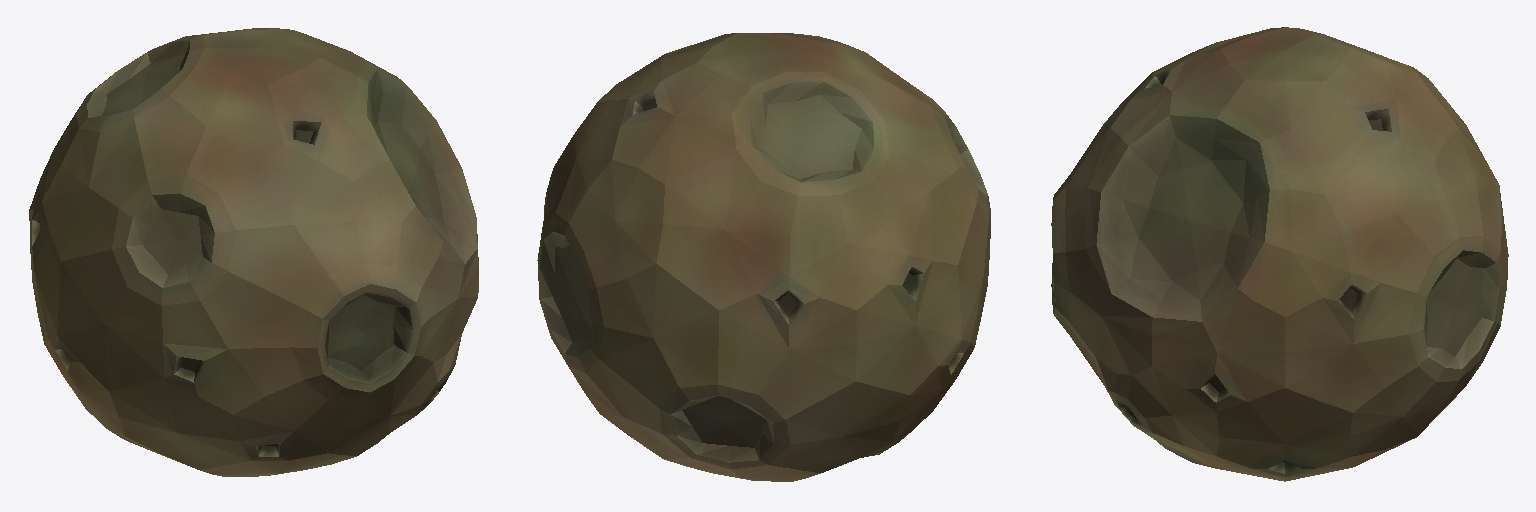
The picture shows the model from 3 angles: view 1: azimuth 30°, elevation 25°; view 2: azimuth 150°, elevation 25°; view 3: azimuth 270°, elevation 25°; orthographic projection.
Parts seen in each view (by area): view 1: Icosphere; view 2: Icosphere; view 3: Icosphere.
Boxes of the visible parts, <box> form: Icosphere: <box>29,28,478,476</box>; Icosphere: <box>537,33,990,481</box>; Icosphere: <box>1051,27,1508,481</box>.
Size of the model in its own units: 8.69 by 8.73 by 8.78.
Materials: 1 (1 with a texture image).